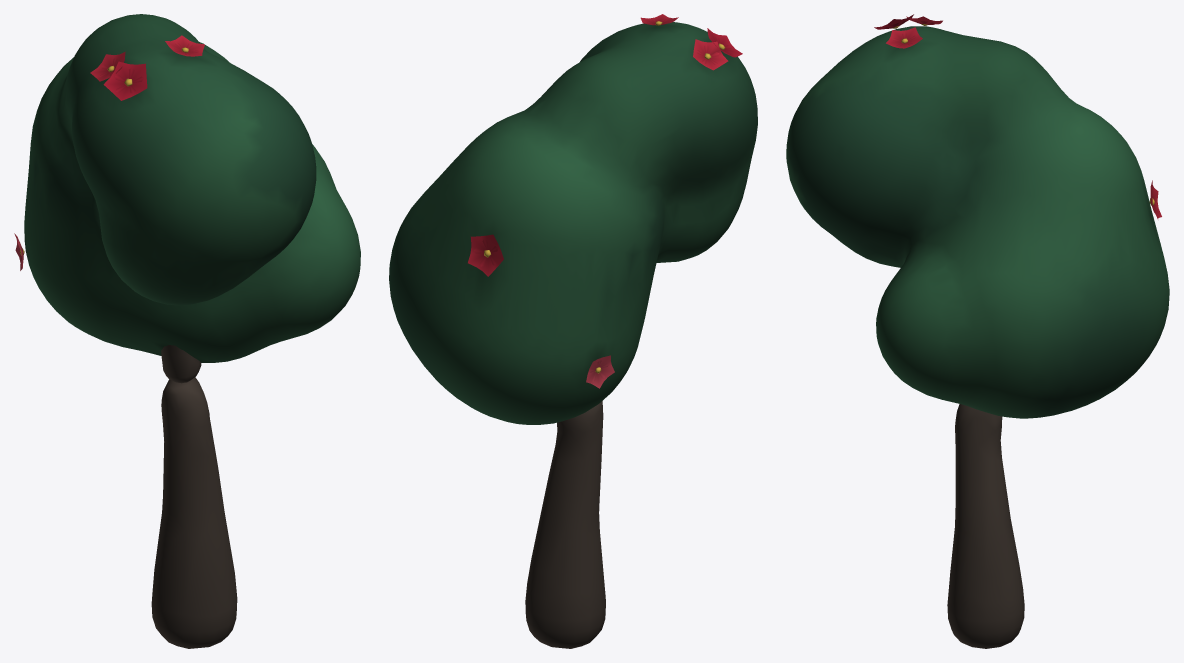
The model's file is tree_02_3.glb.
The picture shows the model from 3 angles, left to right: view 1: azimuth 30°, elevation 25°; view 2: azimuth 150°, elevation 25°; view 3: azimuth 270°, elevation 25°; orthographic projection. The views are drawn at different scales.
Visible parts, largest first — view 1: canopy, bark, blooms; view 2: canopy, bark, blooms; view 3: canopy, bark, blooms.
Boxes of the visible parts, x1,y1,x2,y2 form: canopy: (24,14,360,362); bark: (151,345,237,648); blooms: (14,35,204,270); canopy: (389,22,757,424); bark: (525,401,605,648); blooms: (468,14,742,388); canopy: (786,26,1169,418); bark: (947,404,1024,648); blooms: (874,14,1161,218).
Size of the model in its own units: 1.3 by 2.68 by 1.59.
